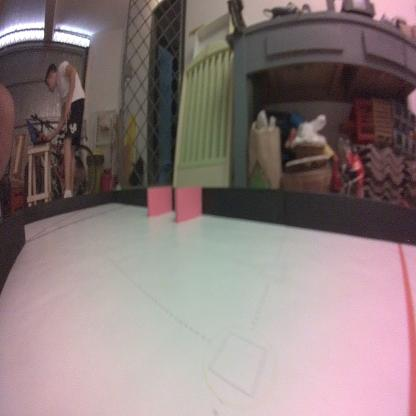magenta: (175, 184, 202, 222), (145, 184, 172, 217)
